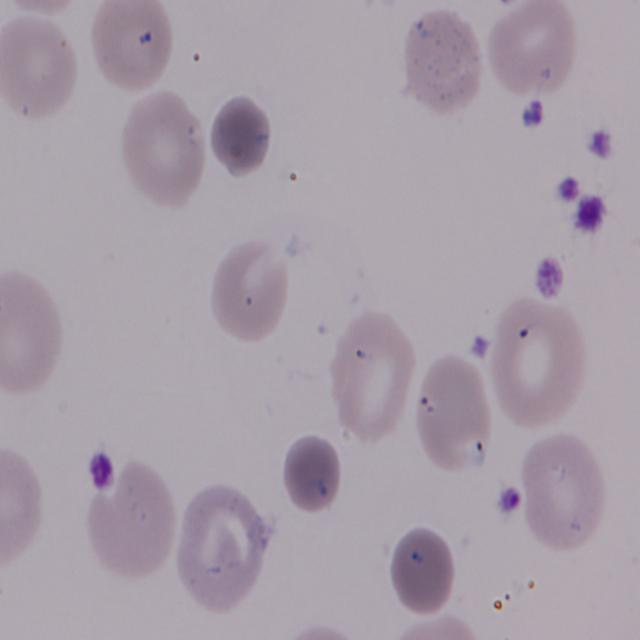RBC: (482, 290, 588, 432), (176, 482, 274, 622), (324, 308, 418, 444), (83, 460, 177, 583), (116, 86, 206, 210), (412, 347, 496, 474), (202, 232, 294, 344), (0, 429, 58, 603), (482, 0, 581, 101), (0, 8, 84, 120), (403, 7, 484, 122), (86, 0, 176, 98), (0, 269, 66, 396), (378, 614, 493, 640), (0, 0, 88, 17)
Spherocyte: (381, 524, 461, 619), (209, 93, 277, 184), (284, 434, 339, 516)
